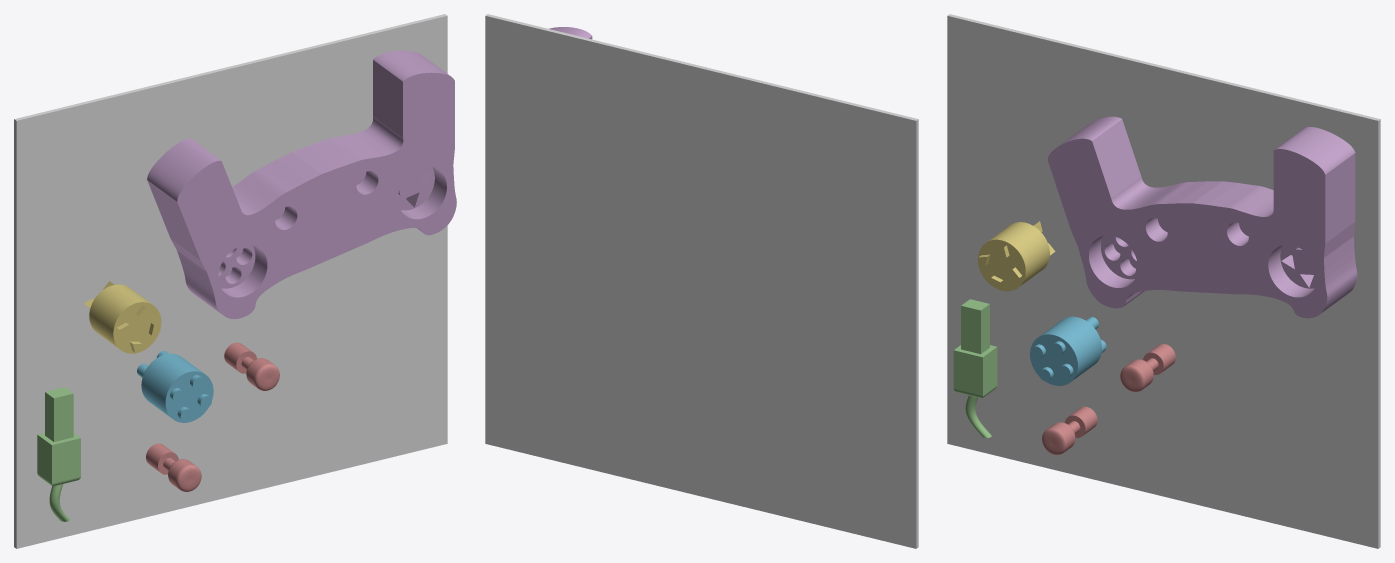
The model's file is pickup_layout.glb.
The picture shows the model from 3 angles, left to right: view 1: azimuth 30°, elevation 25°; view 2: azimuth 150°, elevation 25°; view 3: azimuth 330°, elevation 25°; orthographic projection.
Parts seen in each view (by area): view 1: world, 3.obj, 4.obj, 2.obj, 1.obj, 5.obj, 0.obj; view 2: world; view 3: world, 3.obj, 4.obj, 2.obj, 1.obj, 5.obj, 0.obj.
Part boxes in pixels (x1,y1,x2,y2): world: [14, 14, 447, 548]; 3.obj: [147, 50, 456, 319]; 4.obj: [37, 387, 80, 521]; 2.obj: [137, 351, 213, 422]; 1.obj: [84, 281, 161, 353]; 5.obj: [146, 443, 201, 491]; 0.obj: [224, 342, 279, 390]; world: [485, 14, 918, 548]; world: [947, 14, 1380, 548]; 3.obj: [1047, 116, 1357, 318]; 4.obj: [953, 299, 997, 437]; 2.obj: [1030, 316, 1106, 385]; 1.obj: [977, 221, 1055, 291]; 5.obj: [1042, 406, 1097, 454]; 0.obj: [1120, 344, 1175, 392].
Bounding box in the file's own units: 20.65 × 19.59 × 3.2.
